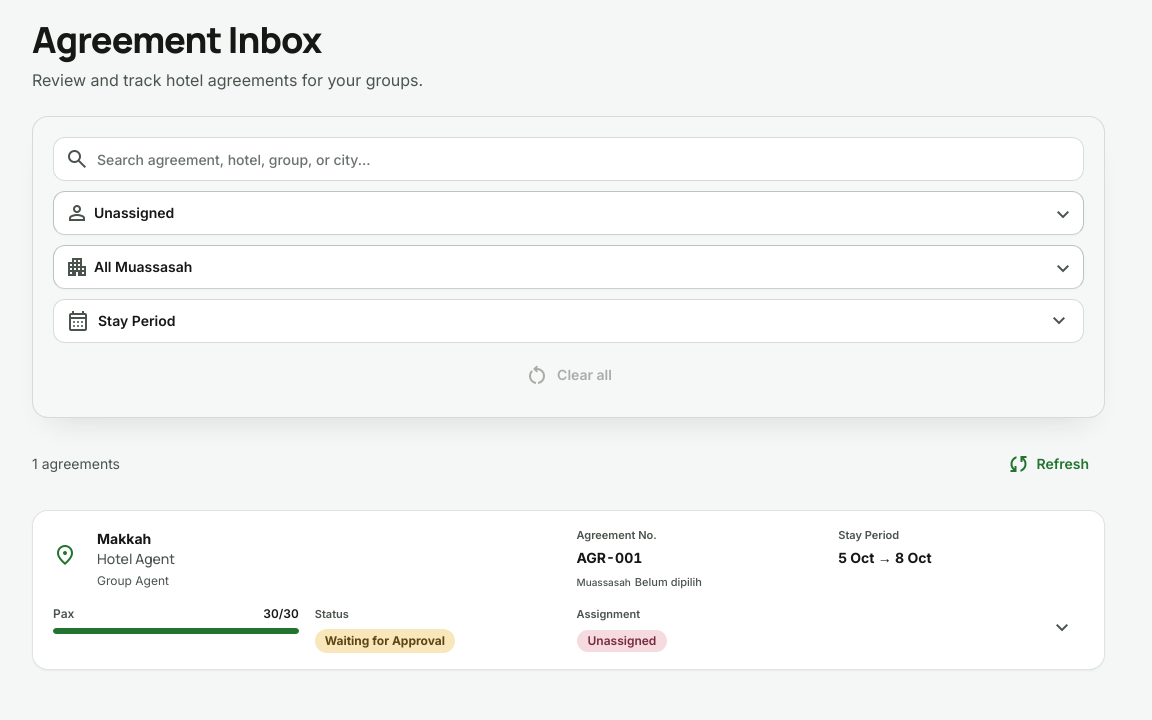
Scenario: Agent Agreement Inbox › refreshes changes made by Admin without sending a write
The image size is (1152, 720).
Check: the heading "Hotel Agent" is shown, box left=97, top=548, right=175, bottom=568
Click the button "Refresh": (1048, 464) left=990, top=442, right=1105, bottom=486
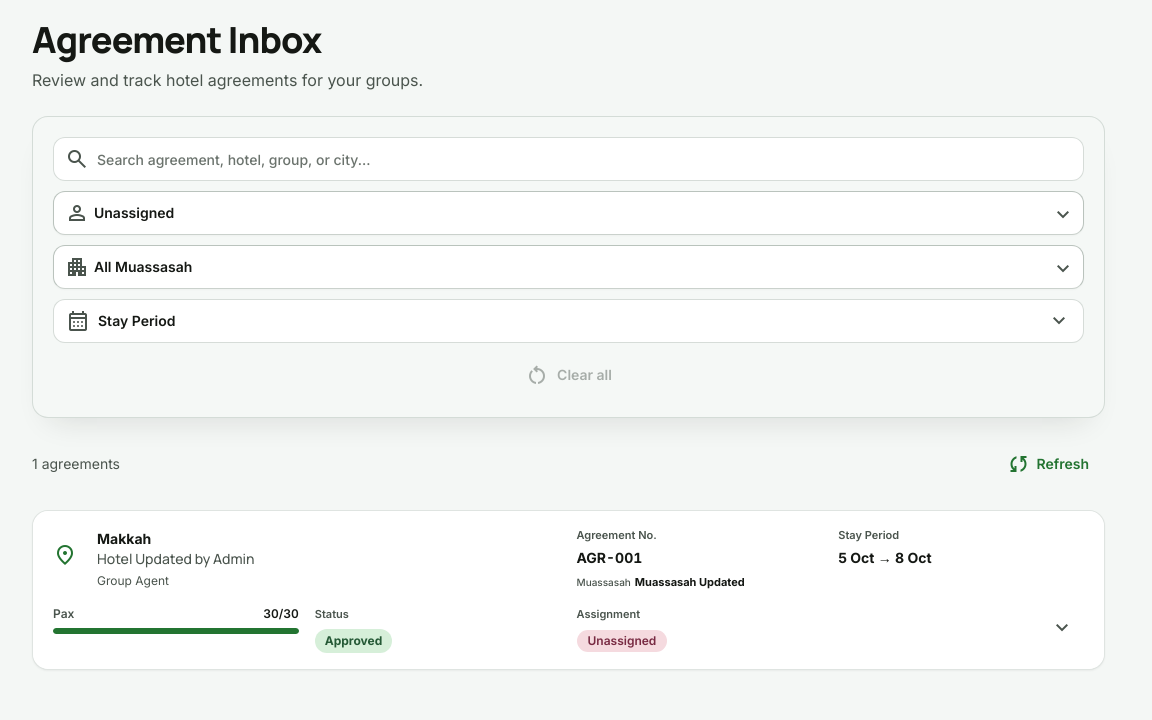
Check: the heading "Hotel Updated by Admin" is shown, box left=97, top=548, right=254, bottom=568
Check: the text "Muassasah Updated" is shown, box left=635, top=574, right=745, bottom=590
Check: the text "Approved" is shown, box left=315, top=628, right=392, bottom=652
